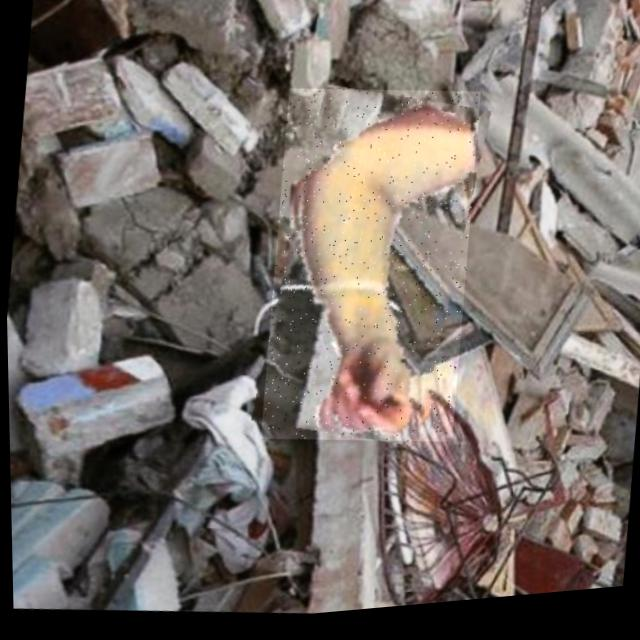Person in Rubble: (251, 80, 484, 463)
